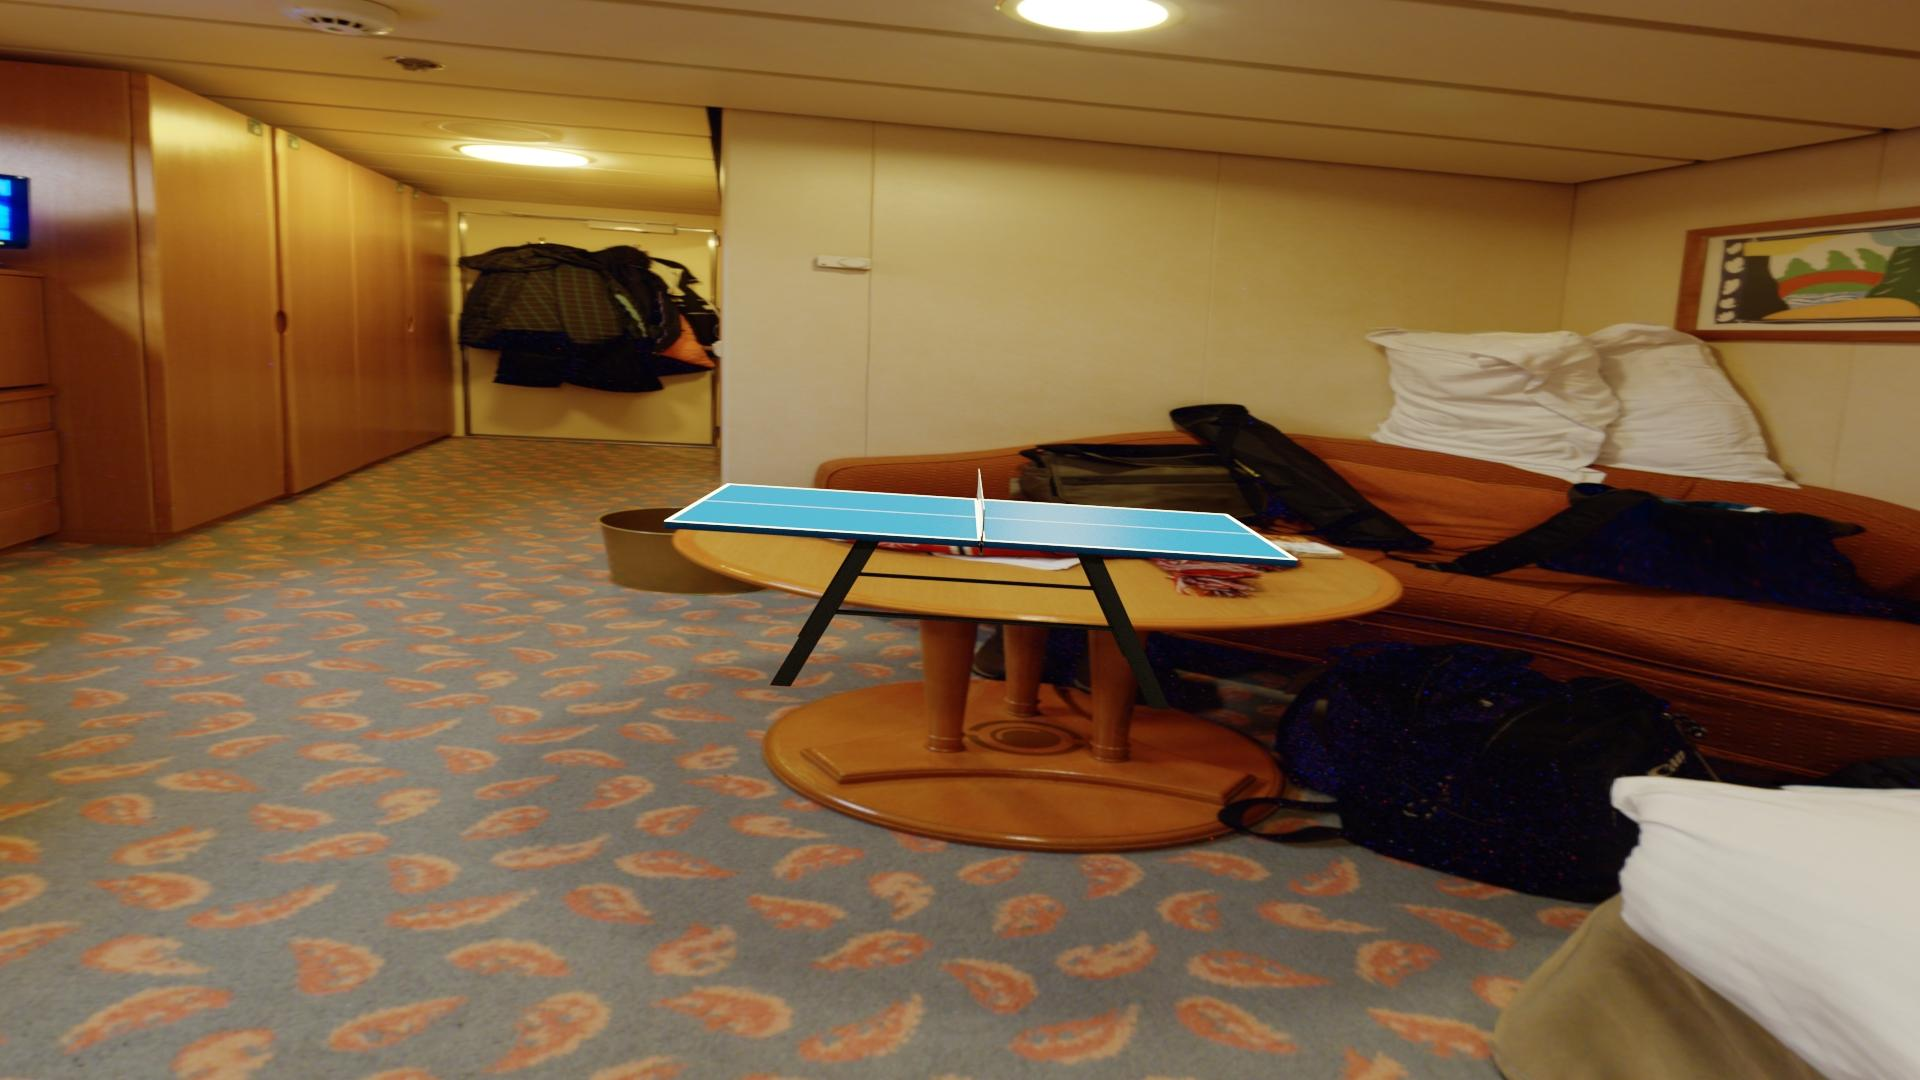table: (670, 484, 1292, 559)
